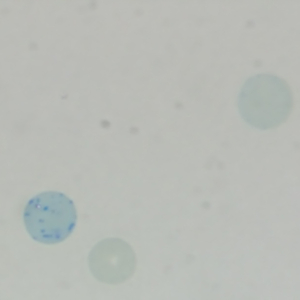aggregate reticulocyte: (21, 189, 80, 246)
erythrocyte: (235, 71, 295, 132), (85, 235, 138, 287)
